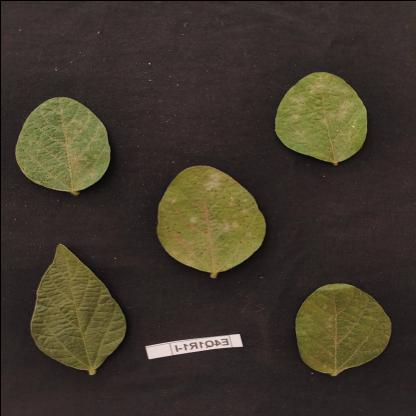label: (140, 328, 250, 368)
leaflets: (148, 157, 272, 293), (22, 236, 132, 378), (268, 62, 376, 171), (291, 278, 397, 386), (15, 89, 119, 199)
